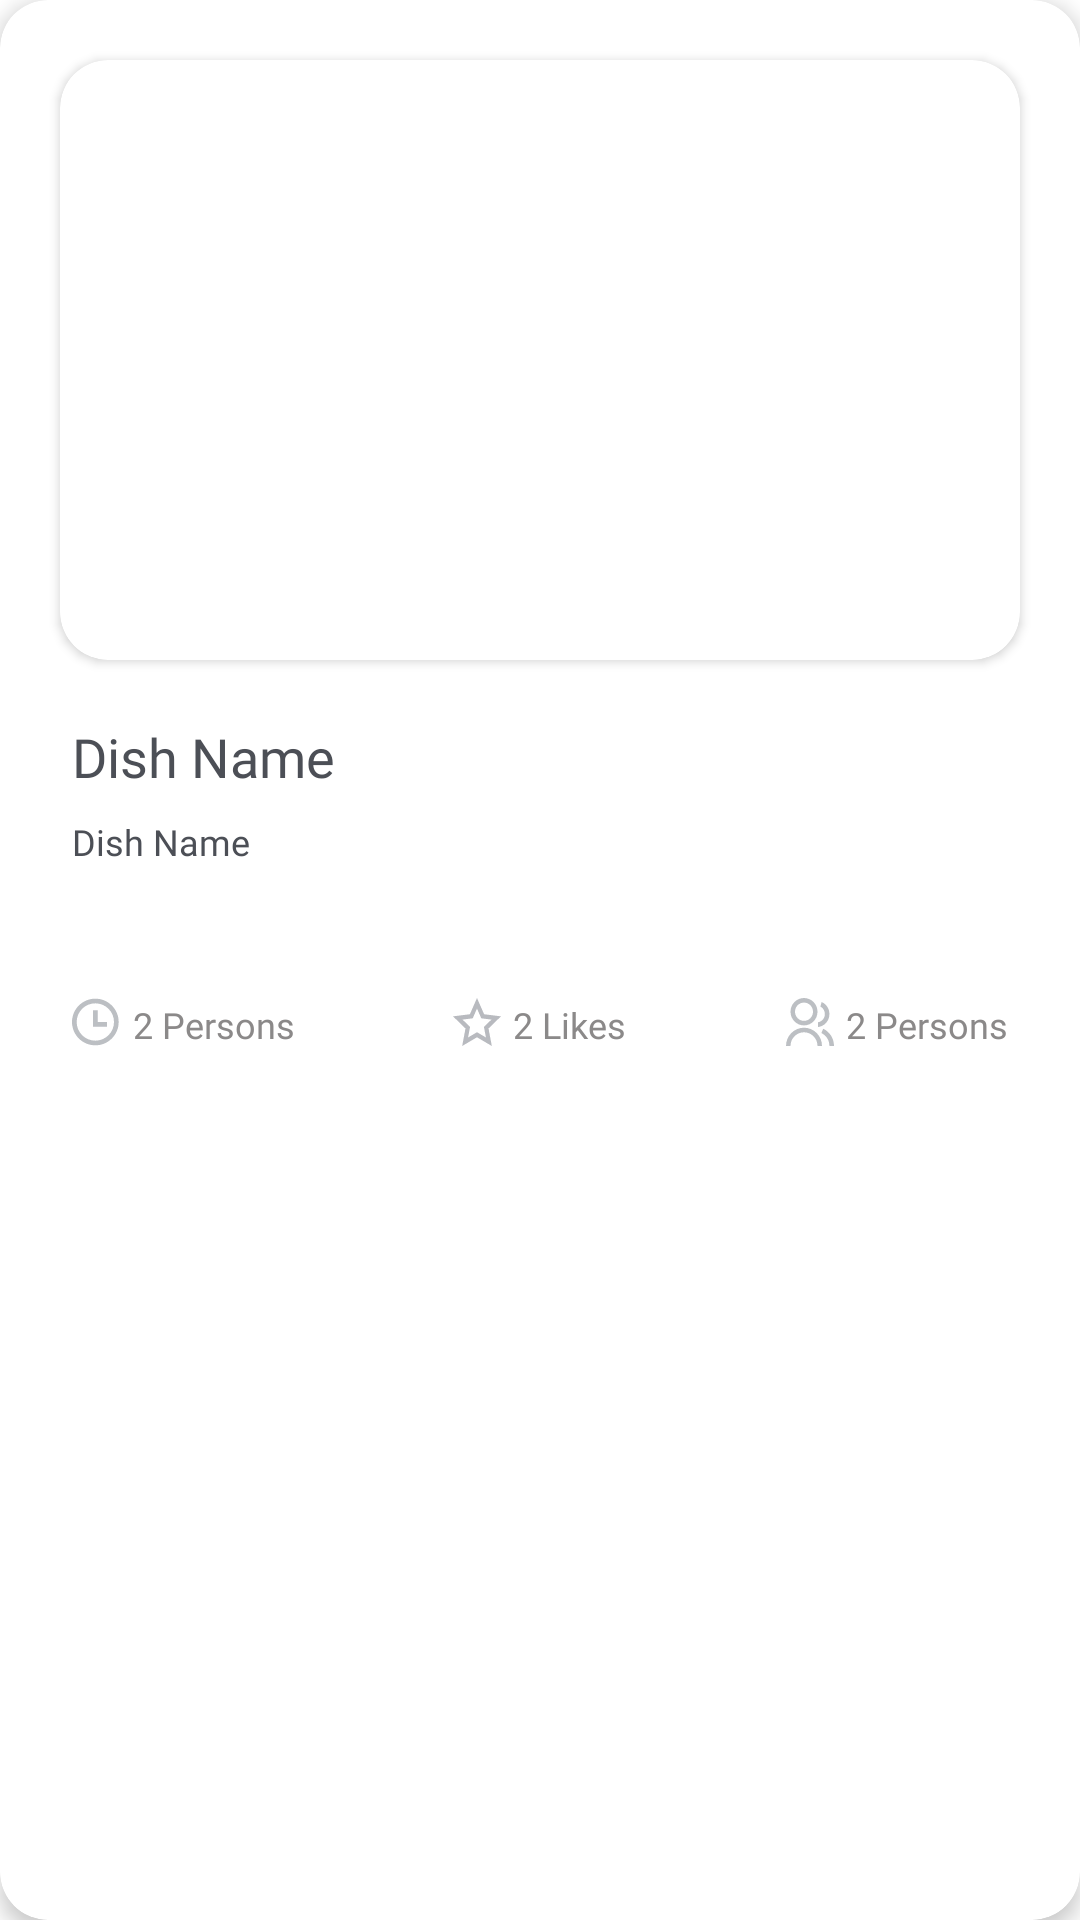

Screen size 1080x1920. Icon name, then its center in pixels as [x,y]:
servingsrecetapp: [810,1022]
starrecetapp: [477,1022]
timerecetapp: [95,1022]
